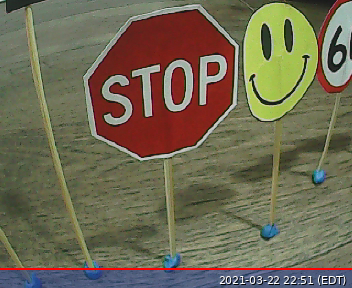Person: (240, 1, 318, 123)
Stop: (84, 4, 240, 169)
